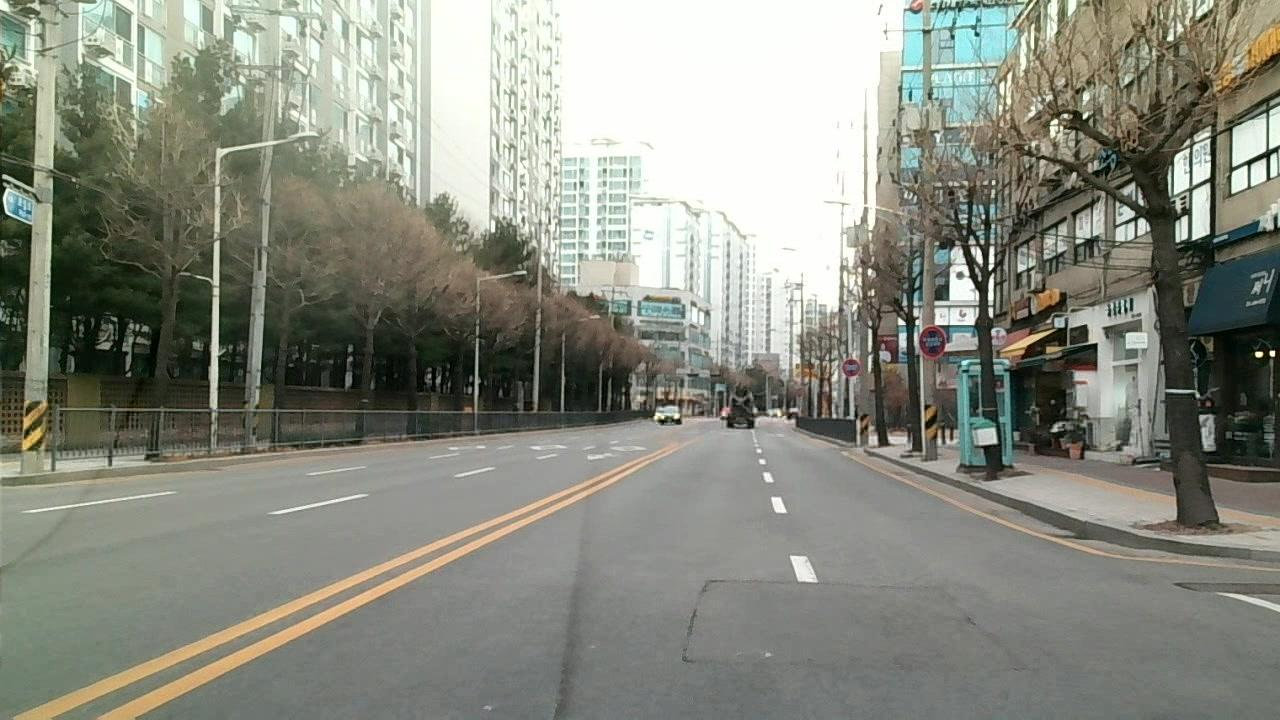hcrack: (733, 573, 914, 595)
vcrack: (940, 588, 1027, 669), (677, 575, 723, 671)
